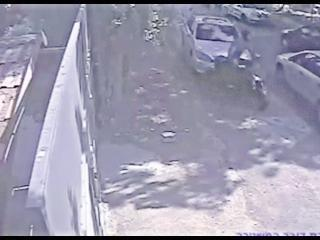Car: (178, 10, 248, 79), (276, 52, 320, 133), (280, 22, 320, 49), (225, 4, 272, 26)
Minor Accident: (180, 14, 268, 110)
Motor: (210, 52, 277, 105)
